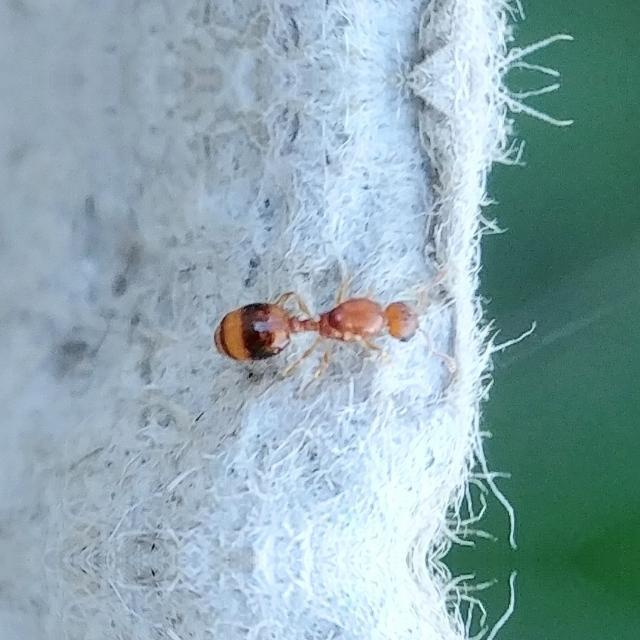Temnothorax: (216, 271, 424, 389)
